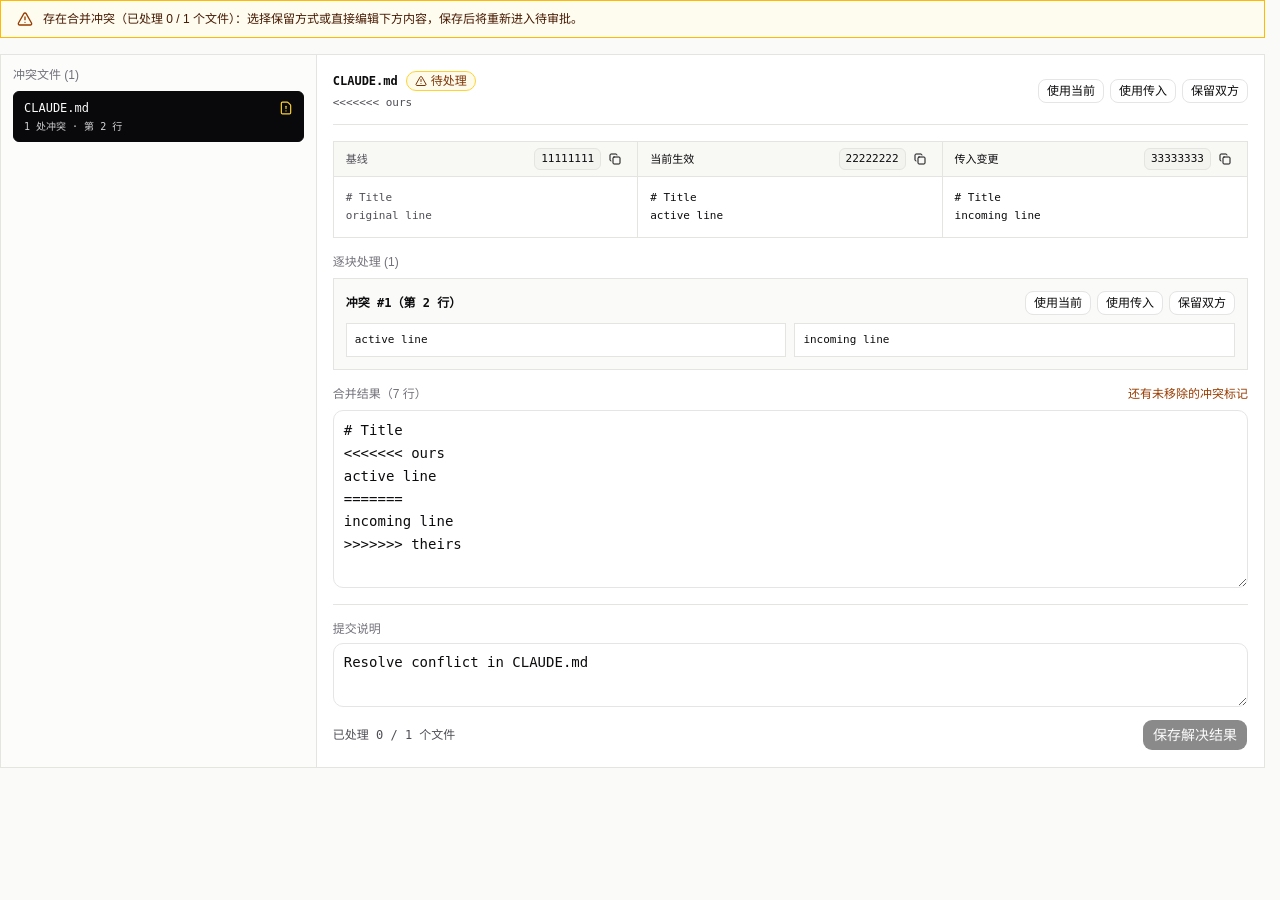
Test: Base UI & workbench components › ConflictMerger resolves conflict hunks via Accept Incoming and submits clean resolution
Later steps or results of the test are not shown.
Expected: the button "保存解决结果" is disabled, [1142,718,1248,750]
Click the button "使用传入" in the row of "待处理" at (1143,91), box [1110,79,1176,103]
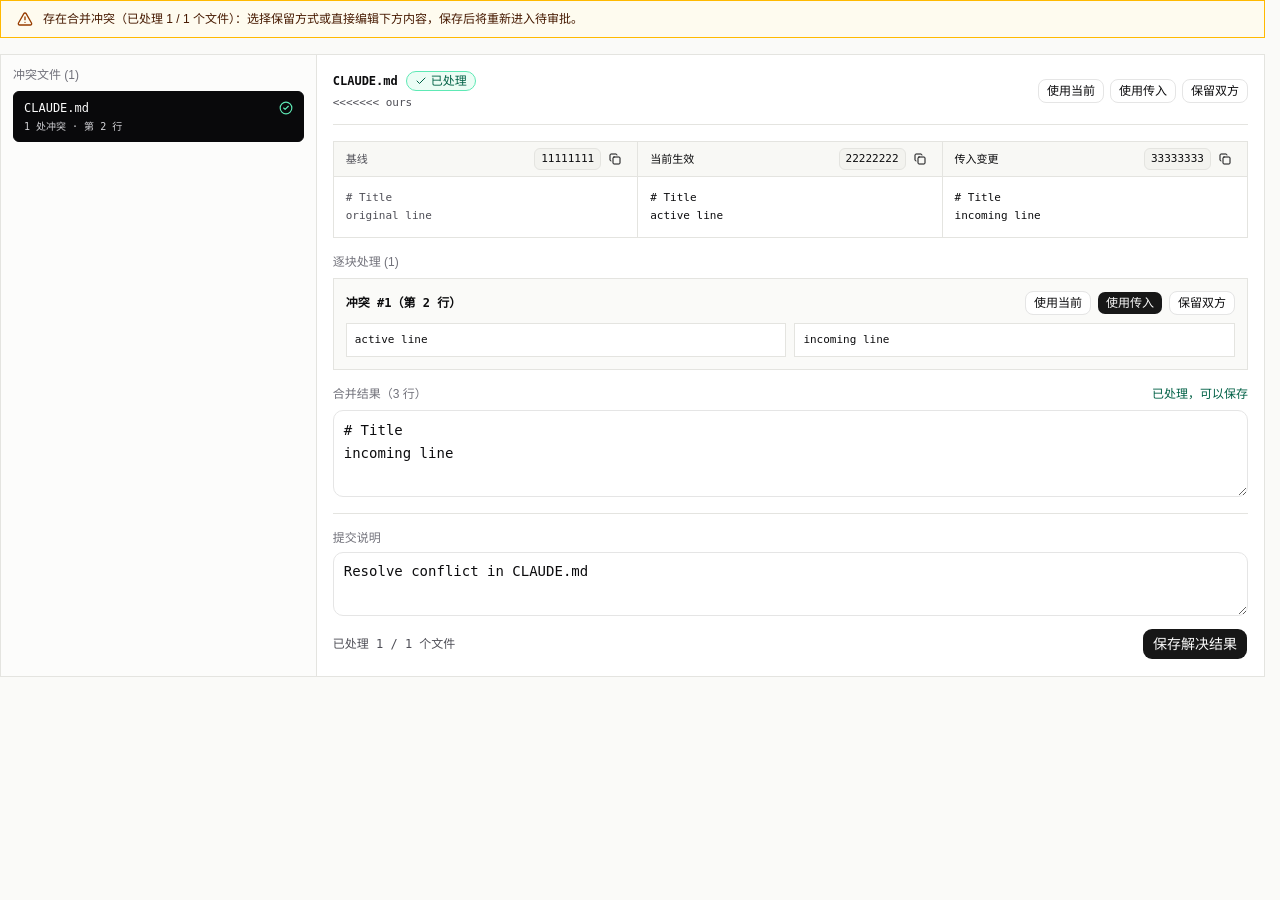
Now the button "保存解决结果" is enabled, box [1142,628,1248,660]
